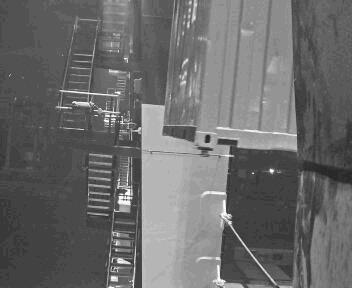twist_lock_1: (191, 157, 227, 189)
